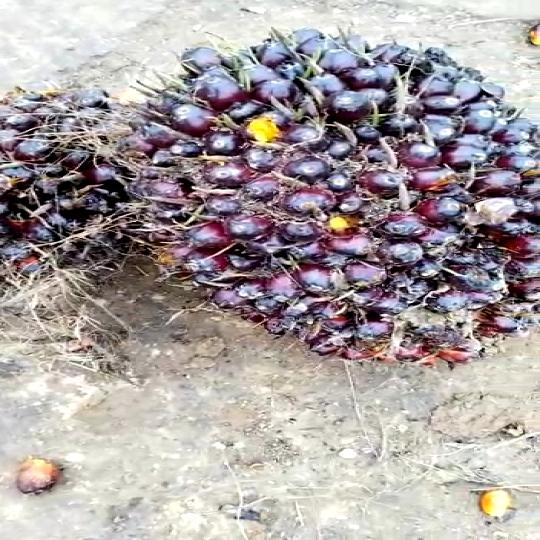kurang masak: (120, 32, 540, 367)
